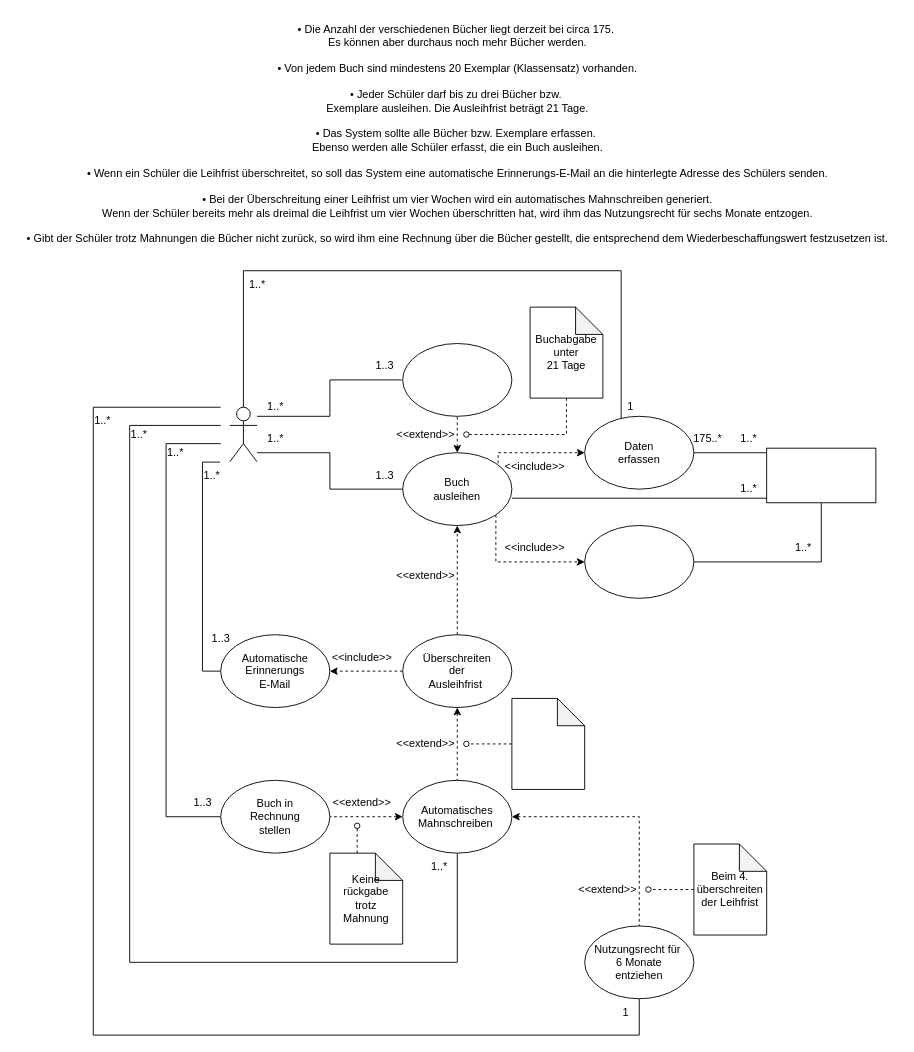
The diagram is 914 pixels wide and 1052 high, and some of its shapes have lost their labels. The centre of each missing label's shape, as x and y in pixels:
Buch bestand Prüfen: the point at 639,561
Buch fristgerecht zurückgeben: the point at 457,379
Lehrer: the point at 821,475
Nach 4 Wochen: the point at 548,743
Schüler: the point at 243,434
